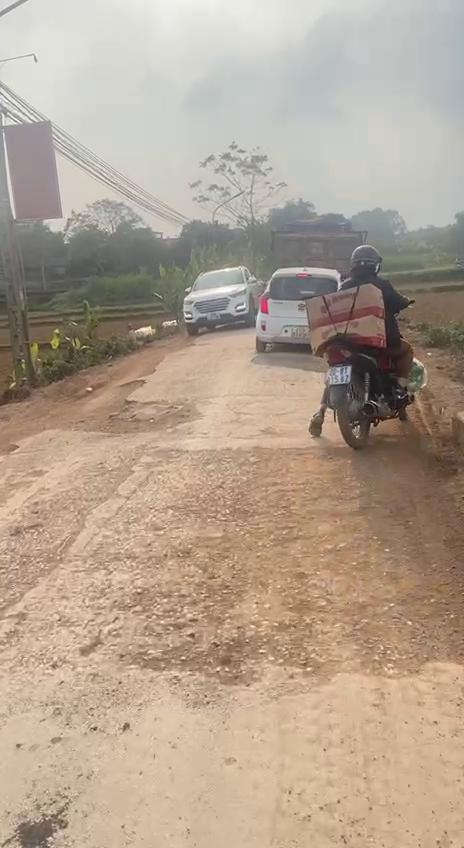pothole: (116, 621, 306, 692), (43, 378, 204, 440)
